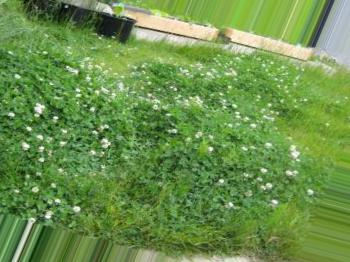patch: (135, 18, 158, 27), (168, 23, 189, 32)
